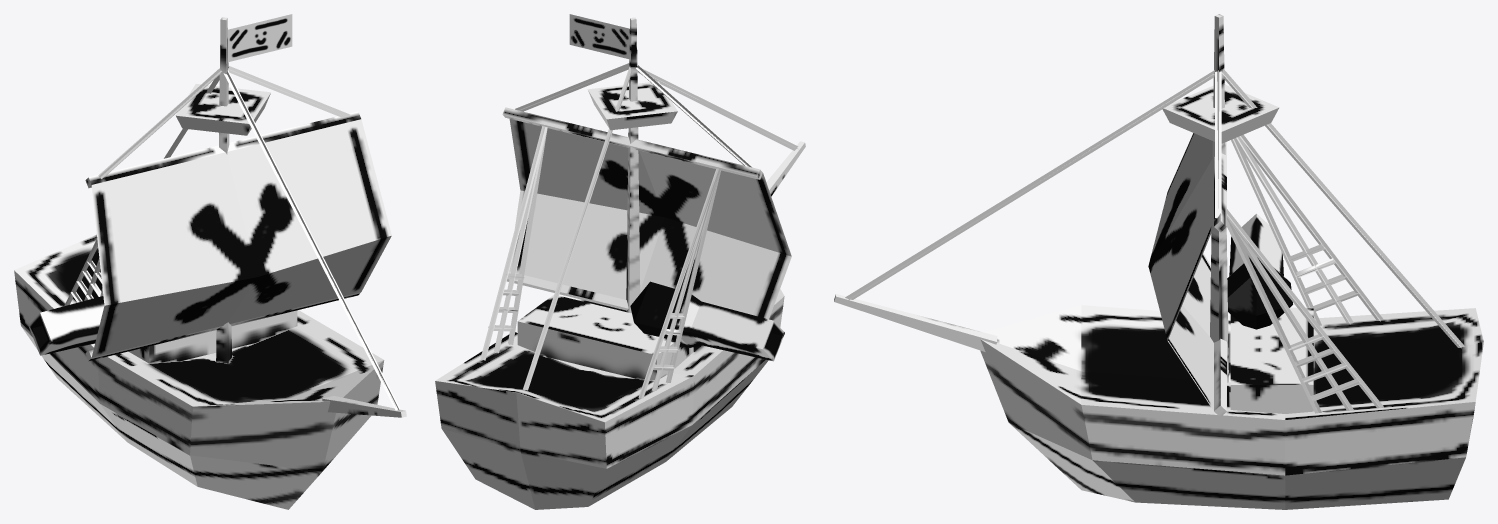
Rendered from shiptextured.gltf.
The picture shows the model from 3 angles, left to right: view 1: azimuth 30°, elevation 25°; view 2: azimuth 150°, elevation 25°; view 3: azimuth 270°, elevation 25°; orthographic projection. The views are drawn at different scales.
Visible parts, largest first — view 1: boat, cloth, ropes, cannon.001; view 2: boat, cloth, ropes, cannon.001; view 3: boat, ropes, cloth, cannon.001.
Boxes of the visible parts, x1,y1,x2,y2 form: boat: (14, 17, 406, 509); cloth: (91, 14, 391, 357); ropes: (64, 66, 400, 410); cannon.001: (28, 296, 104, 355); boat: (435, 17, 805, 509); cloth: (509, 14, 791, 319); ropes: (480, 63, 798, 398); cannon.001: (630, 281, 784, 361); boat: (834, 14, 1483, 509); ropes: (845, 69, 1464, 413); cloth: (1148, 133, 1213, 410); cannon.001: (1227, 213, 1292, 329).
Bounding box in the file's own units: 2.32 × 3.22 × 3.94.
1 material, 1 textured.
